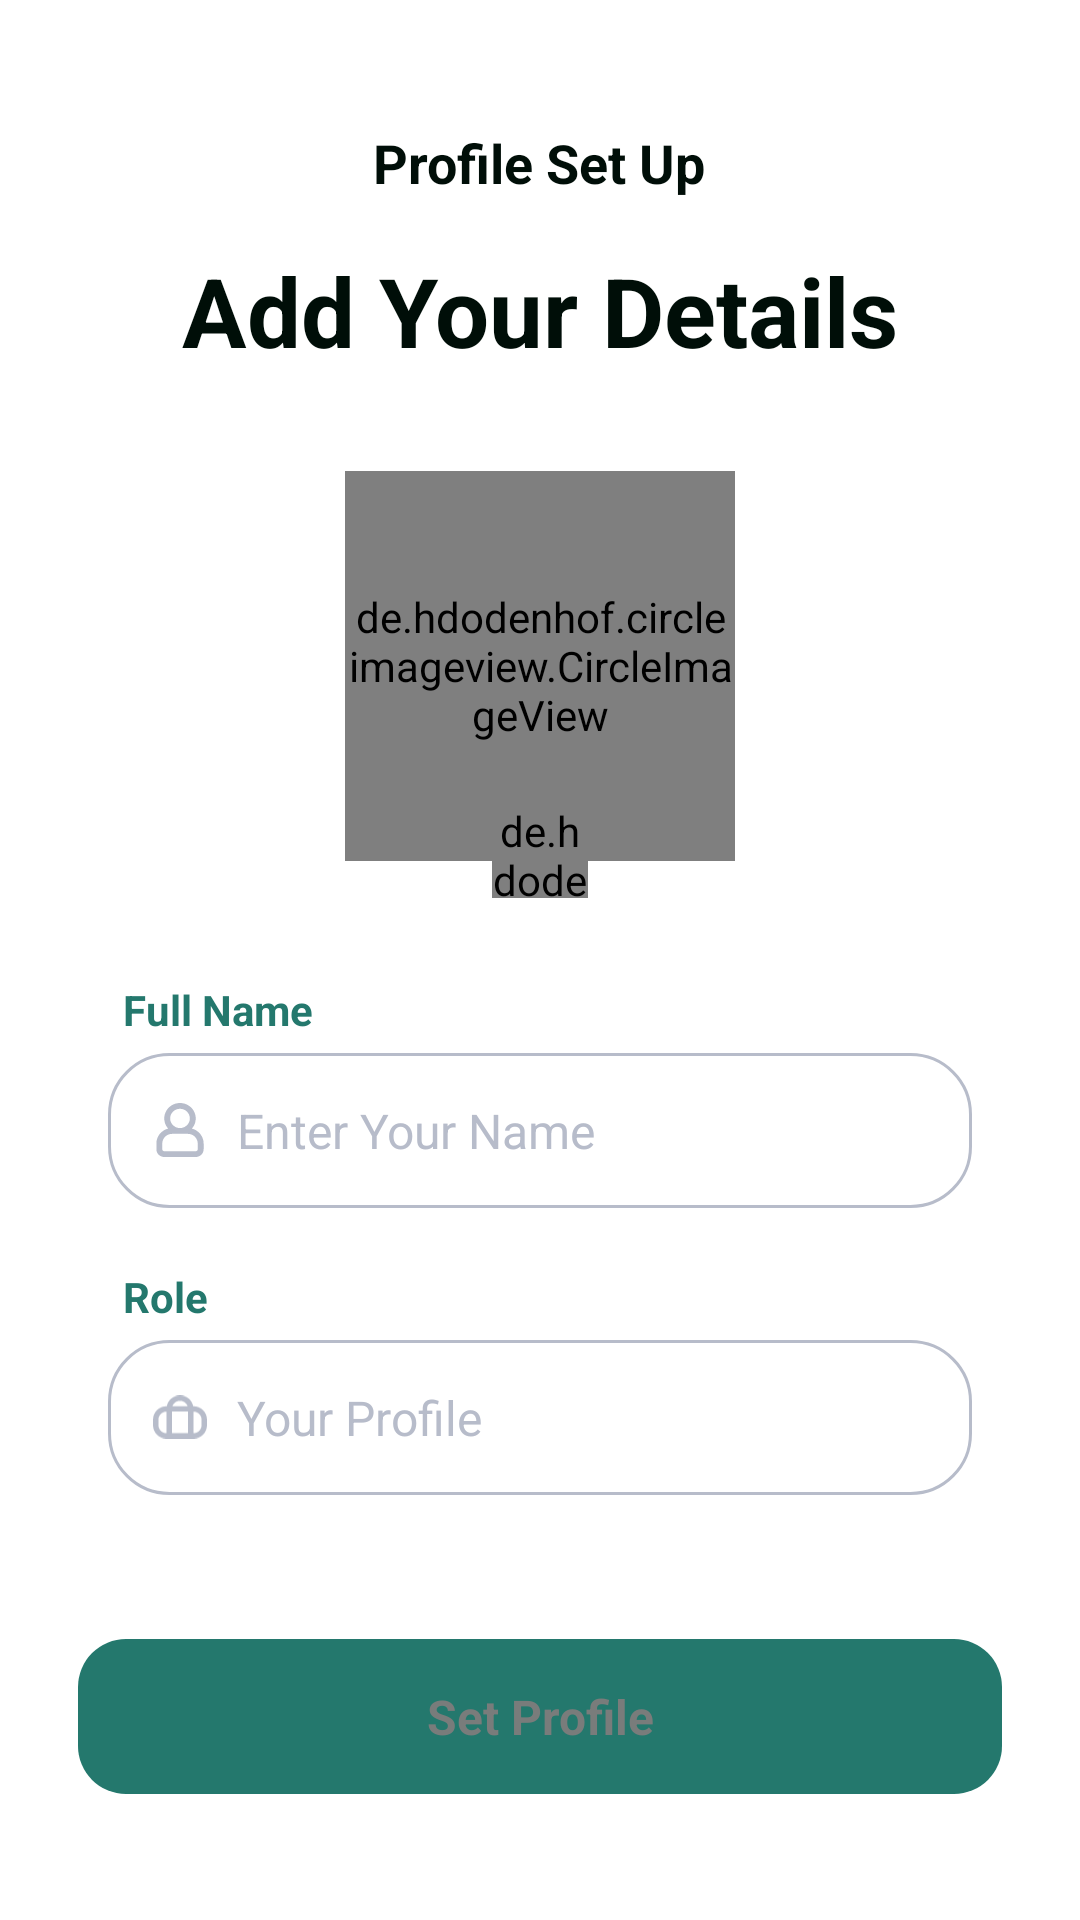

Locate icon controls on the screen. Image size 1080*1920, boxes as [left=x1, top=y1, right=x2, bottom=y2].
name person: [left=156, top=1103, right=204, bottom=1157]
